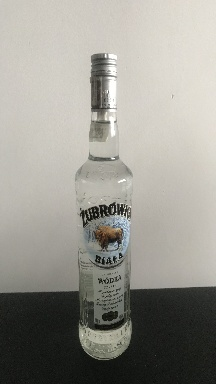butelka: (73, 48, 134, 363)
